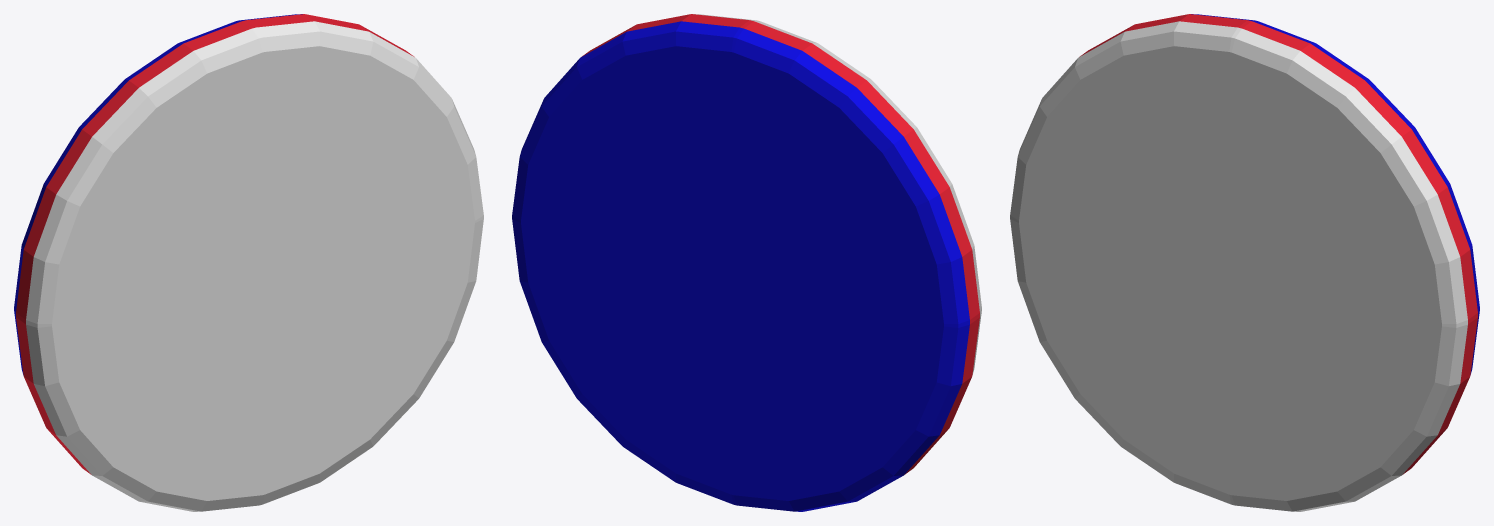
The model's file is token.glb.
3 renders of one model, left to right at view 1: azimuth 30°, elevation 25°; view 2: azimuth 150°, elevation 25°; view 3: azimuth 330°, elevation 25°, orthographic.
Visible parts, largest first — view 1: Token; view 2: Token; view 3: Token.
Boxes of the visible parts, left/top/right/bottom form: Token: left=14, top=14, right=483, bottom=511; Token: left=512, top=14, right=981, bottom=511; Token: left=1010, top=14, right=1479, bottom=511.
Bounding box in the file's own units: 2 × 2 × 0.2206.
